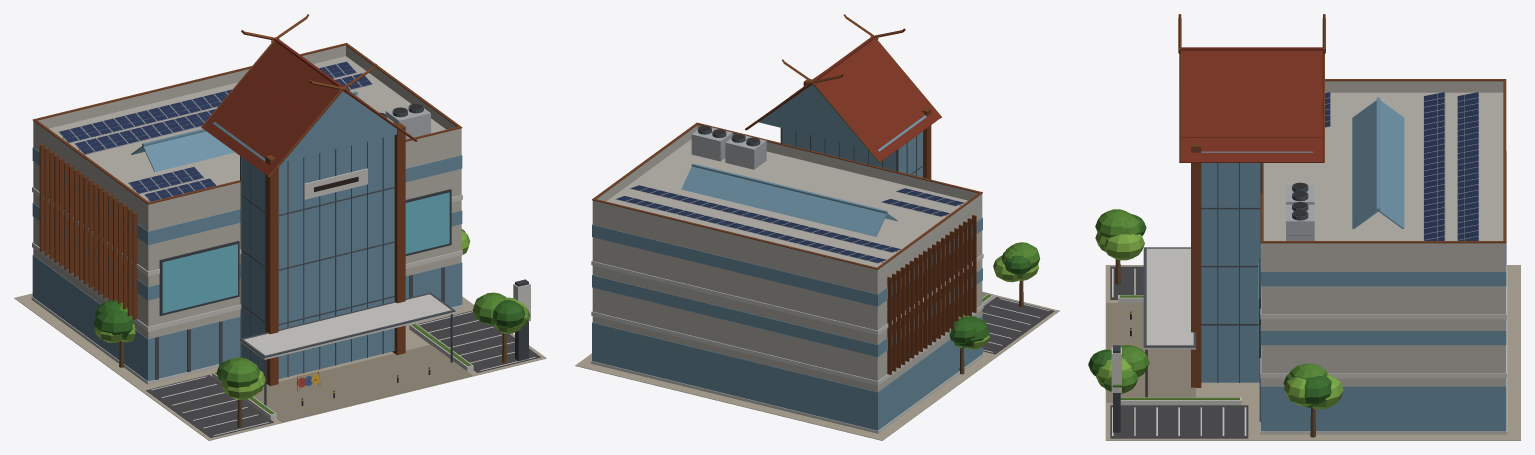
File: shop_5.glb
The picture shows the model from 3 angles, left to right: view 1: azimuth 30°, elevation 25°; view 2: azimuth 150°, elevation 25°; view 3: azimuth 270°, elevation 25°; orthographic projection. The views are drawn at different scales.
Parts seen in each view (by area): view 1: body, windows; view 2: body; view 3: body.
Part boxes in pixels (<box>): body: <box>14,14,546,440</box>; windows: <box>162,192,449,400</box>; body: <box>575,14,1059,440</box>; body: <box>1088,14,1520,440</box>.
Size of the model in its own units: 34.82 by 27.35 by 33.25.
